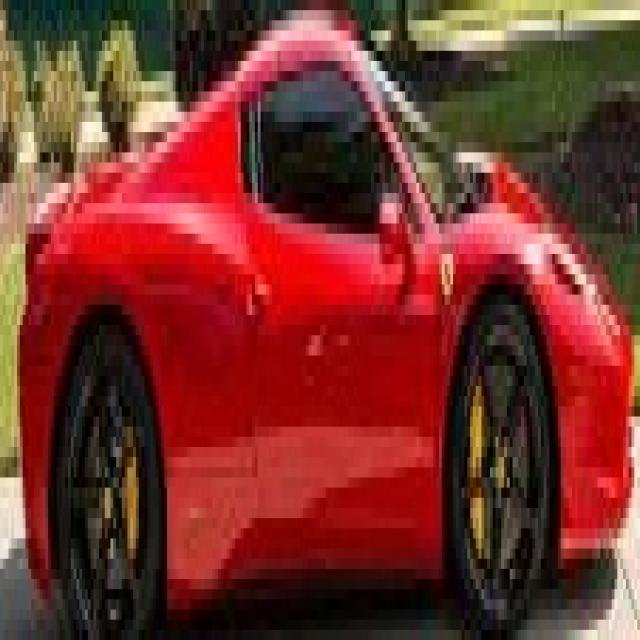red: (22, 15, 640, 640)
